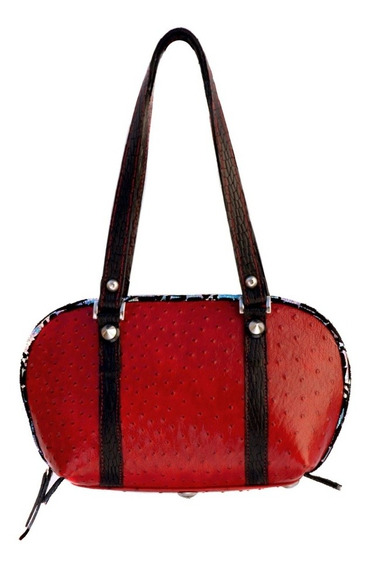cartera: (19, 26, 350, 494)
